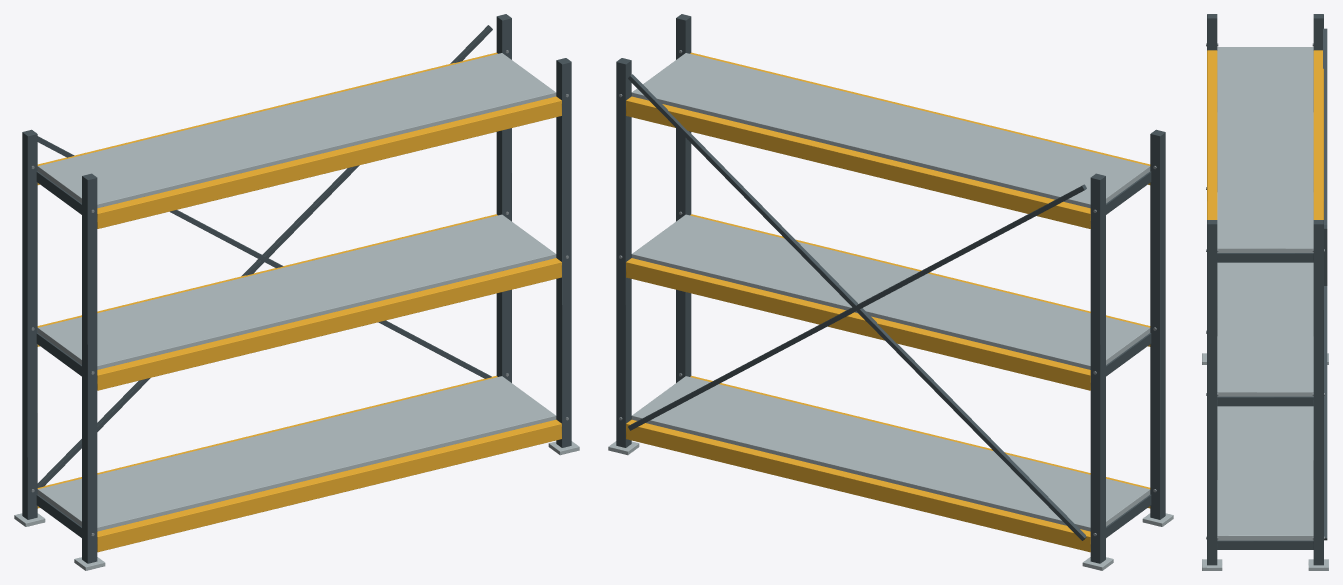
3 renders of one model, left to right at view 1: azimuth 30°, elevation 25°; view 2: azimuth 150°, elevation 25°; view 3: azimuth 270°, elevation 25°, orthographic. The views are drawn at different scales.
Visible parts, largest first — view 1: SM_NPP_StorageRack_4m_A; view 2: SM_NPP_StorageRack_4m_A; view 3: SM_NPP_StorageRack_4m_A.
Boxes of the visible parts, x1=… form: SM_NPP_StorageRack_4m_A: x1=14, y1=14, x2=579, y2=570; SM_NPP_StorageRack_4m_A: x1=608, y1=14, x2=1173, y2=570; SM_NPP_StorageRack_4m_A: x1=1202, y1=14, x2=1328, y2=570.
Bounding box in the file's own units: 4 × 3 × 1.
